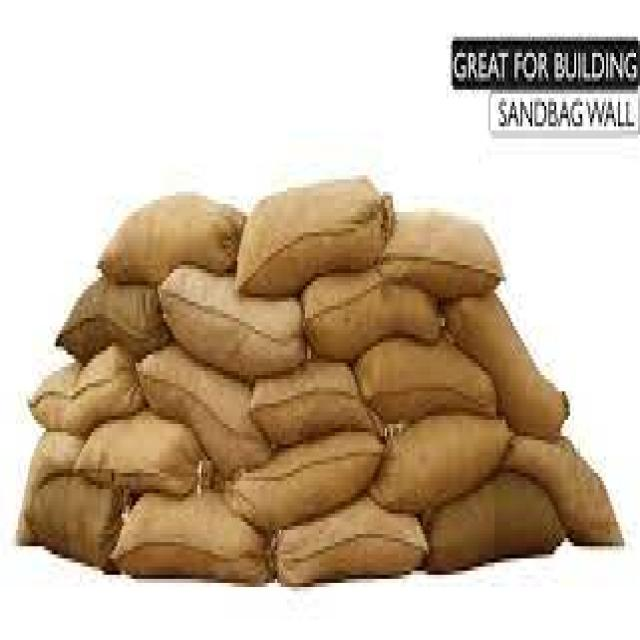sack: (234, 170, 396, 298), (137, 340, 273, 480), (447, 286, 571, 439), (156, 264, 310, 378), (217, 430, 390, 530), (425, 462, 567, 576), (372, 411, 515, 518), (268, 496, 430, 590), (355, 332, 500, 436), (303, 260, 445, 364), (112, 494, 270, 586), (98, 189, 247, 285), (503, 436, 623, 545), (77, 406, 210, 499), (379, 208, 507, 302), (26, 340, 145, 436), (55, 272, 172, 368), (251, 361, 380, 448), (22, 475, 128, 577), (14, 433, 86, 545)
